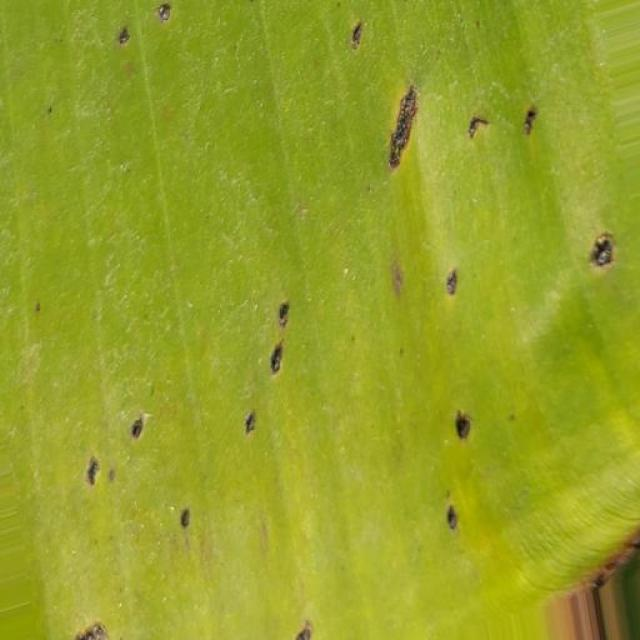Black_rot: (10, 10, 640, 640)
